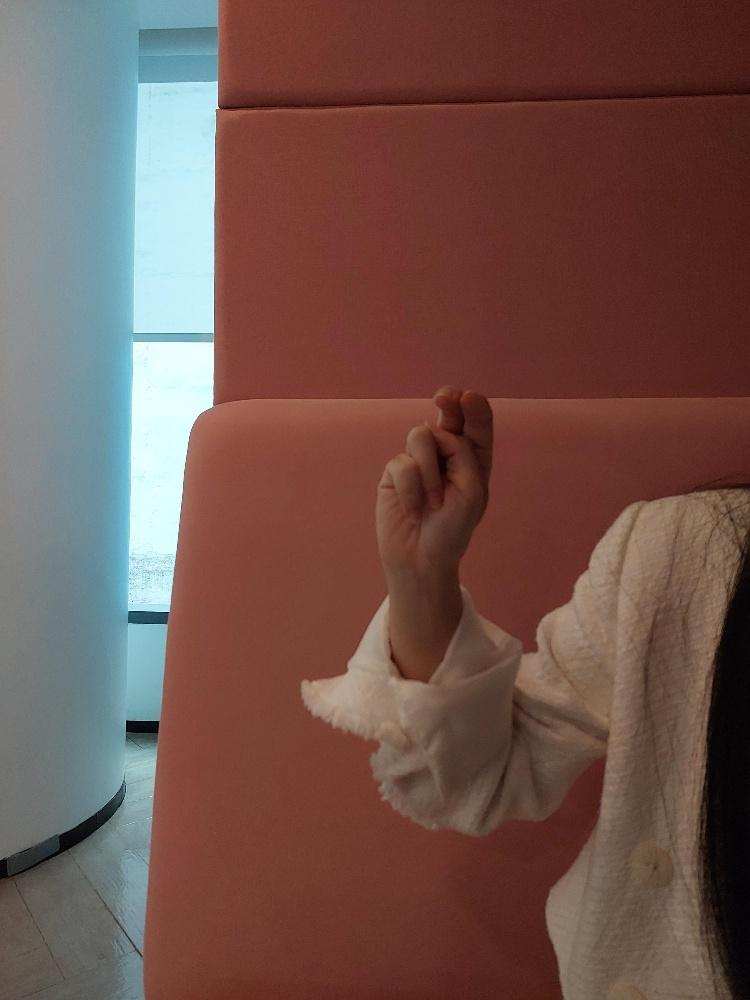n: (373, 382, 493, 557)
